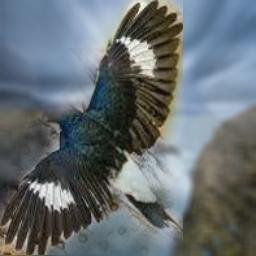Woodpecker: (0, 0, 183, 255)
